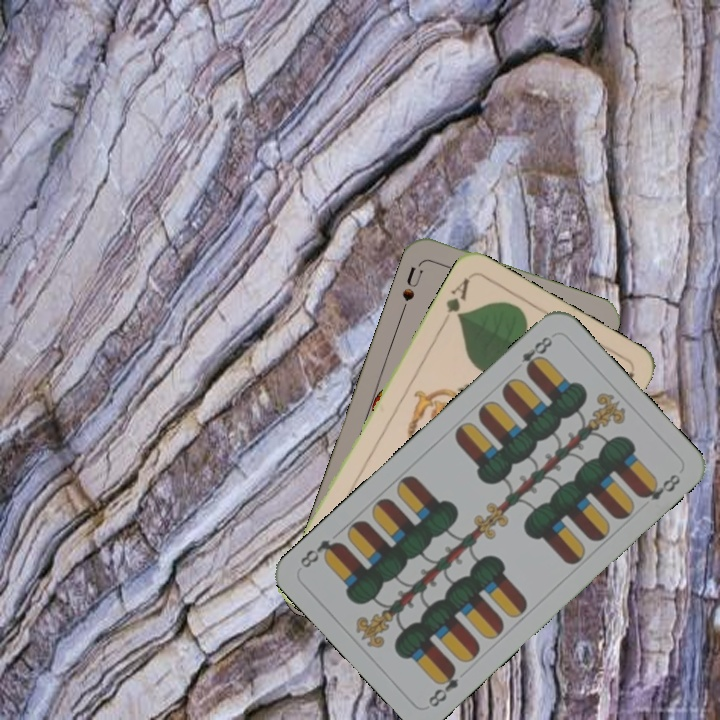E8: (424, 662, 462, 710), (517, 331, 557, 376)
GA: (441, 273, 472, 322)
SU: (397, 259, 426, 316)
